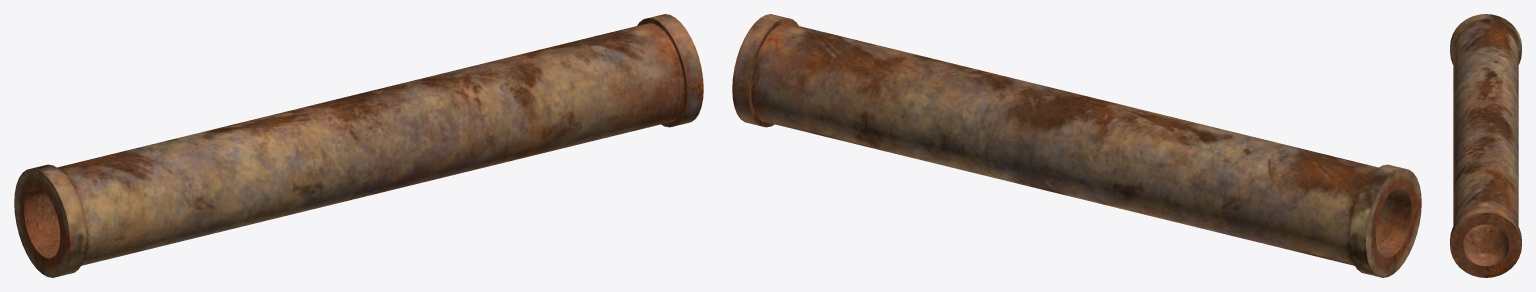
The model's file is old_pipe_06.glb.
3 renders of one model, left to right at view 1: azimuth 30°, elevation 25°; view 2: azimuth 150°, elevation 25°; view 3: azimuth 270°, elevation 25°, orthographic. The views are drawn at different scales.
Parts seen in each view (by area): view 1: old_pipe_06; view 2: old_pipe_06; view 3: old_pipe_06.
Part boxes in pixels (x1,y1,x2,y2): old_pipe_06: (14,14,703,277); old_pipe_06: (732,14,1421,277); old_pipe_06: (1450,14,1521,277).
Size of what is drawn, in the model's own units: 0.5511 by 0.0843 by 0.0843.
Materials: 1 (1 with a texture image).
